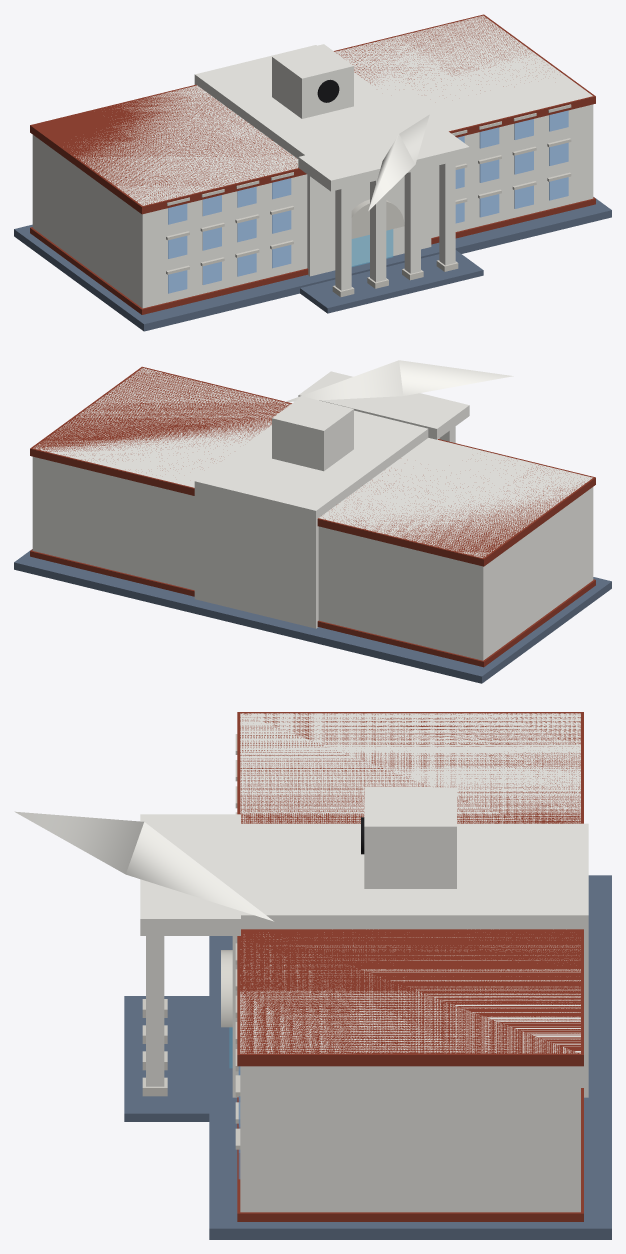
Rendered from admin-block.glb.
3 views of the same model, one above another, from view 1: azimuth 30°, elevation 25°; view 2: azimuth 150°, elevation 25°; view 3: azimuth 270°, elevation 25° (orthographic). The views are drawn at different scales.
Visible parts, largest first — view 1: Admin_Block_Main; view 2: Admin_Block_Main; view 3: Admin_Block_Main.
Part boxes in pixels (box(x1,y1,x2,y2)): Admin_Block_Main: box(14, 14, 611, 331); Admin_Block_Main: box(14, 360, 611, 683); Admin_Block_Main: box(14, 712, 611, 1239).
Bounding box in the file's own units: 54 × 18.25 × 38.61.
